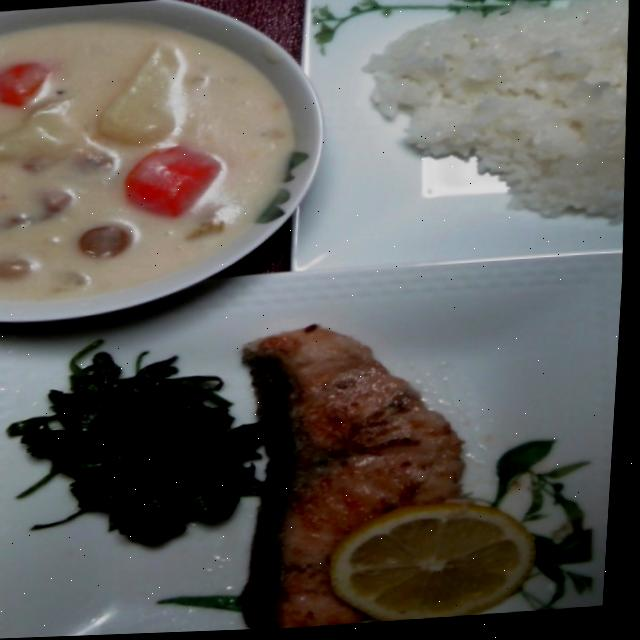熟制海鲜: (187, 299, 504, 634)
